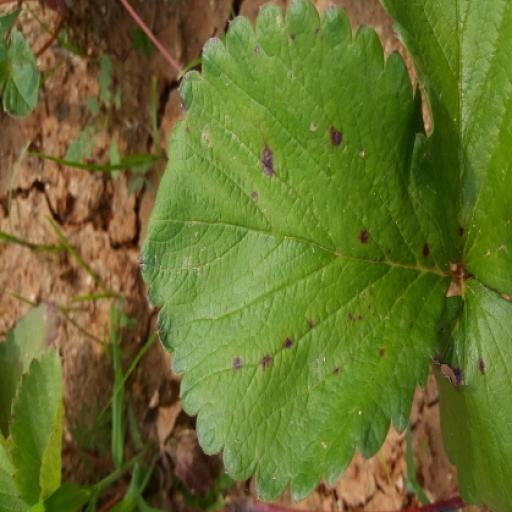Leaf Spot: (136, 8, 463, 511), (381, 218, 511, 511), (430, 0, 511, 235)
